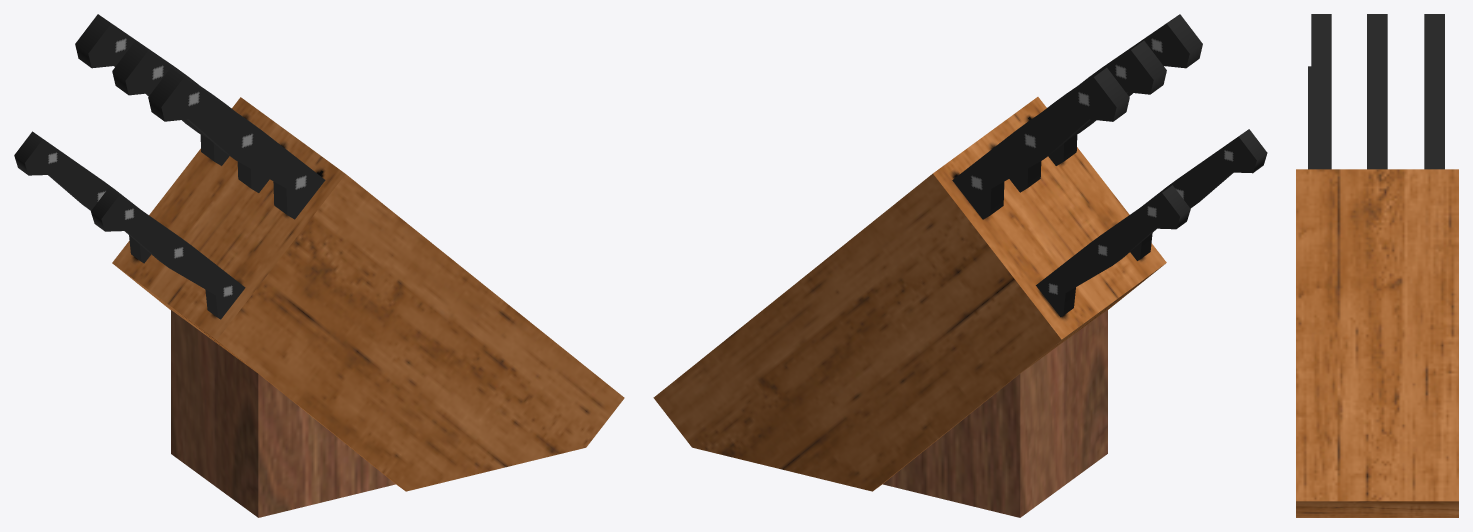
Rendered from KnifeHolder.fbx.
The picture shows the model from 3 angles, left to right: view 1: azimuth 30°, elevation 25°; view 2: azimuth 150°, elevation 25°; view 3: azimuth 270°, elevation 25°; orthographic projection. The views are drawn at different scales.
Visible parts, largest first — view 1: knife _holder.001; view 2: knife _holder.001; view 3: knife _holder.001.
Boxes of the visible parts, x1,y1,x2,y2 form: knife _holder.001: (14, 14, 624, 517); knife _holder.001: (653, 14, 1267, 517); knife _holder.001: (1296, 14, 1458, 517).
Bounding box in the file's own units: 43.9 × 37.33 × 15.49.
